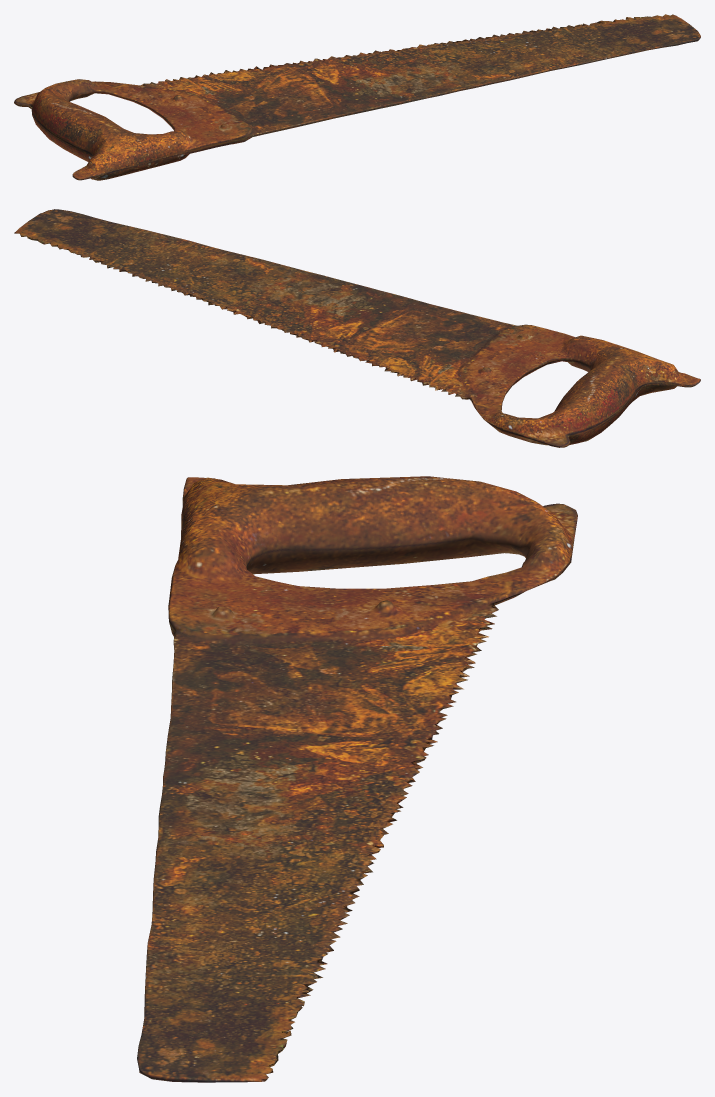
Rendered from Handsaw.fbx.
The picture shows the model from 3 angles, top to bottom: view 1: azimuth 30°, elevation 25°; view 2: azimuth 150°, elevation 25°; view 3: azimuth 270°, elevation 25°; orthographic projection. The views are drawn at different scales.
Parts seen in each view (by area): view 1: SM_Handsaw_01a; view 2: SM_Handsaw_01a; view 3: SM_Handsaw_01a.
Boxes of the visible parts, box(x1,y1,x2,y2) form: SM_Handsaw_01a: box(14, 14, 700, 180); SM_Handsaw_01a: box(14, 209, 700, 447); SM_Handsaw_01a: box(137, 476, 577, 1082).
Bounding box in the file's own units: 70.89 × 4.36 × 21.9.
